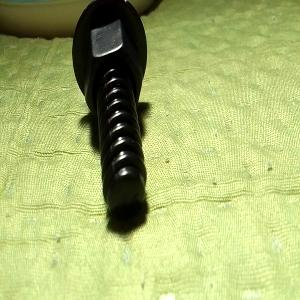parafuso: (72, 0, 148, 214)
